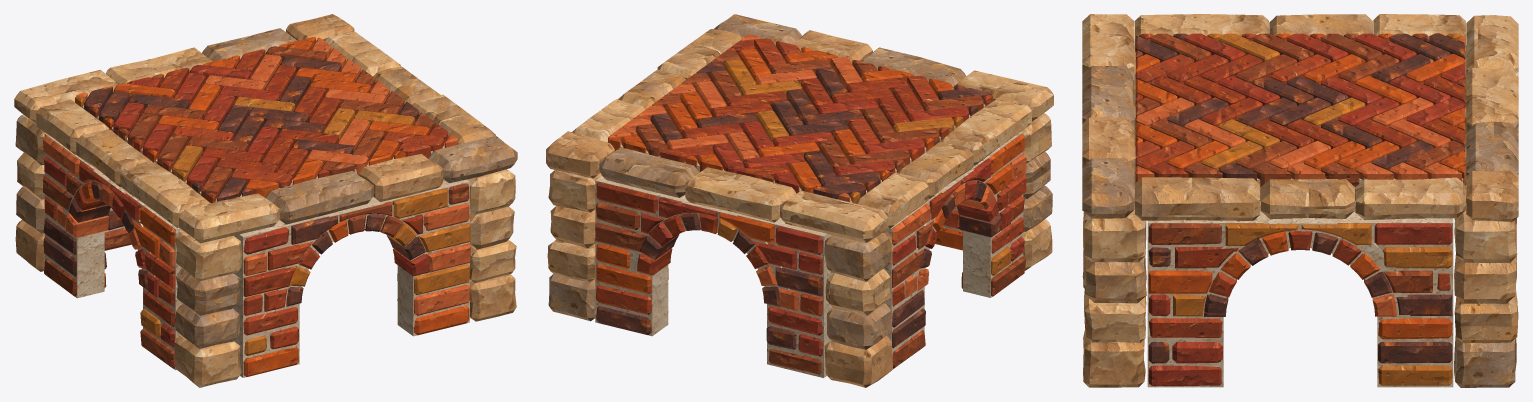
Rendered from foundation__clay_brick.glb.
The picture shows the model from 3 angles, left to right: view 1: azimuth 30°, elevation 25°; view 2: azimuth 150°, elevation 25°; view 3: azimuth 270°, elevation 25°; orthographic projection. The views are drawn at different scales.
Parts seen in each view (by area): view 1: model; view 2: model; view 3: model.
Part boxes in pixels (x1,y1,x2,y2): model: [14, 14, 517, 387]; model: [546, 14, 1053, 387]; model: [1082, 14, 1518, 387].
Size of the model in its own units: 1.99 by 0.986 by 1.99.
14 materials, 14 textured.
